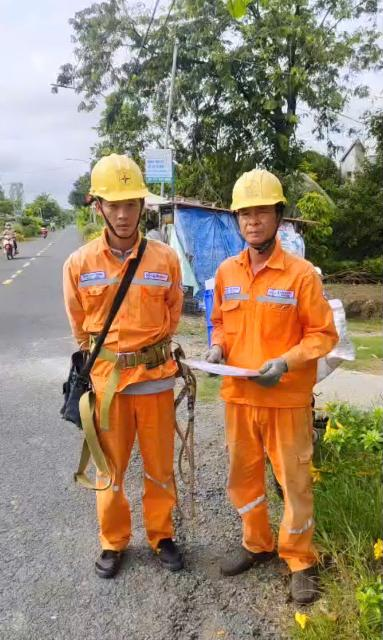gloves: (240, 353, 285, 388), (201, 344, 225, 377)
harness: (71, 334, 187, 370)
helmet: (80, 150, 160, 215), (212, 158, 298, 215)
shoes: (209, 540, 276, 581), (279, 560, 328, 607), (86, 540, 129, 587), (148, 540, 191, 577)
